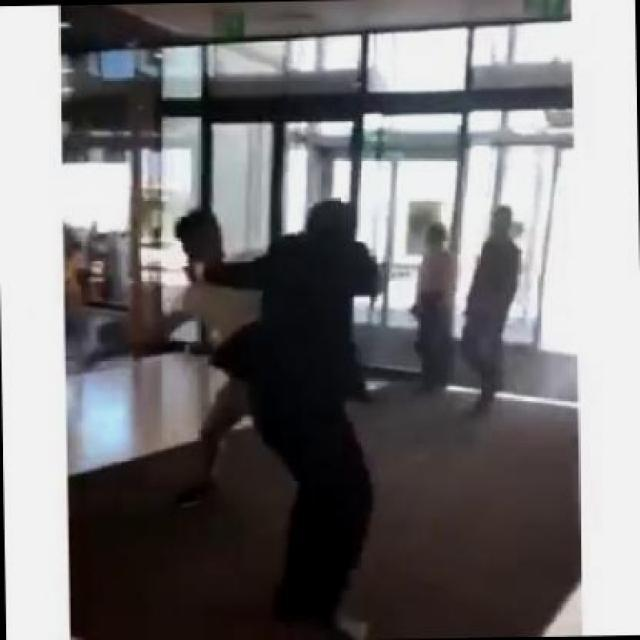fight: (144, 196, 388, 638)
non-fight: (461, 201, 521, 421), (400, 218, 460, 394)
